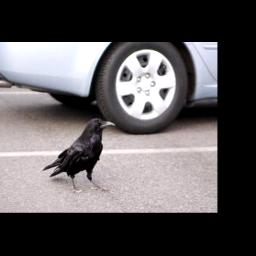Crow: (41, 115, 115, 193)
